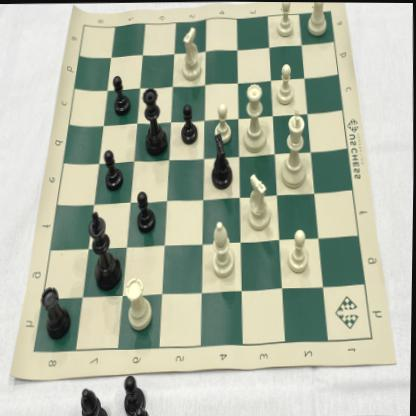black-king: (86, 209, 123, 296)
black-knight: (209, 132, 235, 189)
black-pawn: (134, 188, 158, 233), (178, 103, 201, 146), (110, 73, 132, 117), (103, 148, 125, 192)
black-queen: (141, 88, 168, 158)
black-rook: (42, 284, 74, 342)
white-bishop: (210, 219, 237, 279)
white-king: (278, 107, 310, 189)
white-knight: (245, 171, 273, 231)
white-pawn: (286, 227, 311, 275), (275, 61, 296, 105), (213, 101, 233, 144), (274, 2, 296, 40)
white-queen: (241, 80, 271, 153)
white-rook: (124, 271, 154, 333), (304, 2, 330, 39)
